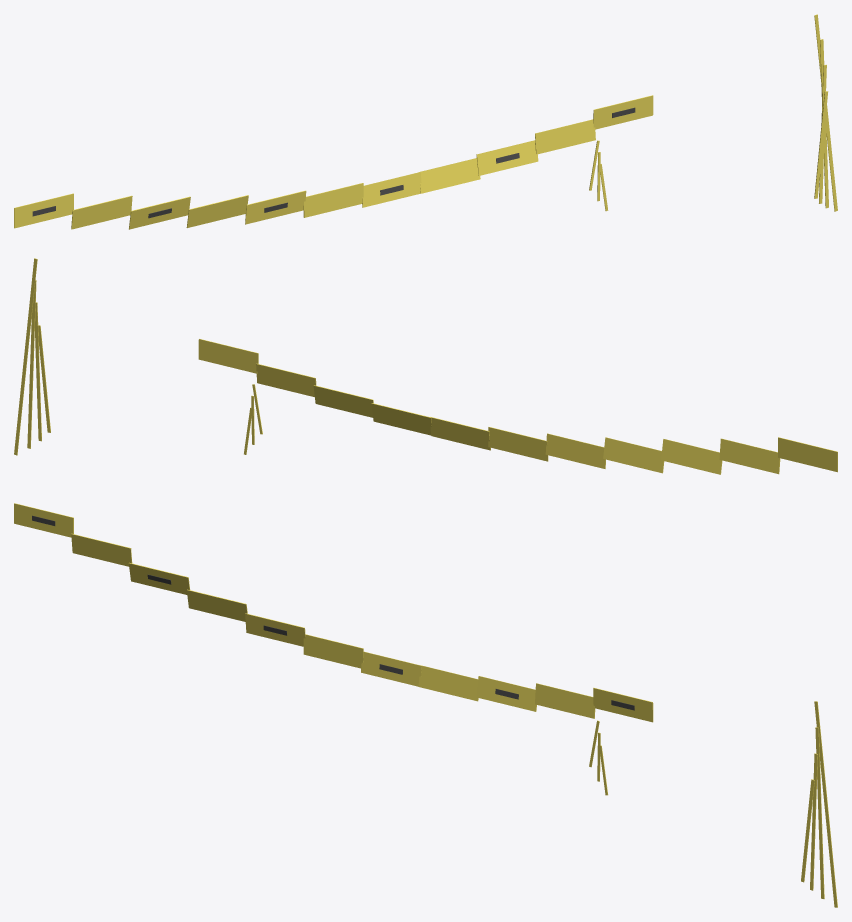
The model's file is cinta_amarilla.glb.
3 views of the same model, one above another, from view 1: azimuth 30°, elevation 25°; view 2: azimuth 150°, elevation 25°; view 3: azimuth 330°, elevation 25° (orthographic).
Parts seen in each view (by area): view 1: cinta_amarilla; view 2: cinta_amarilla; view 3: cinta_amarilla.
Boxes of the visible parts, <box> form: cinta_amarilla: <box>14,14,837,229</box>; cinta_amarilla: <box>14,258,837,474</box>; cinta_amarilla: <box>14,503,837,907</box>.
Bounding box in the file's own units: 2.13 × 0.504 × 0.0371.
